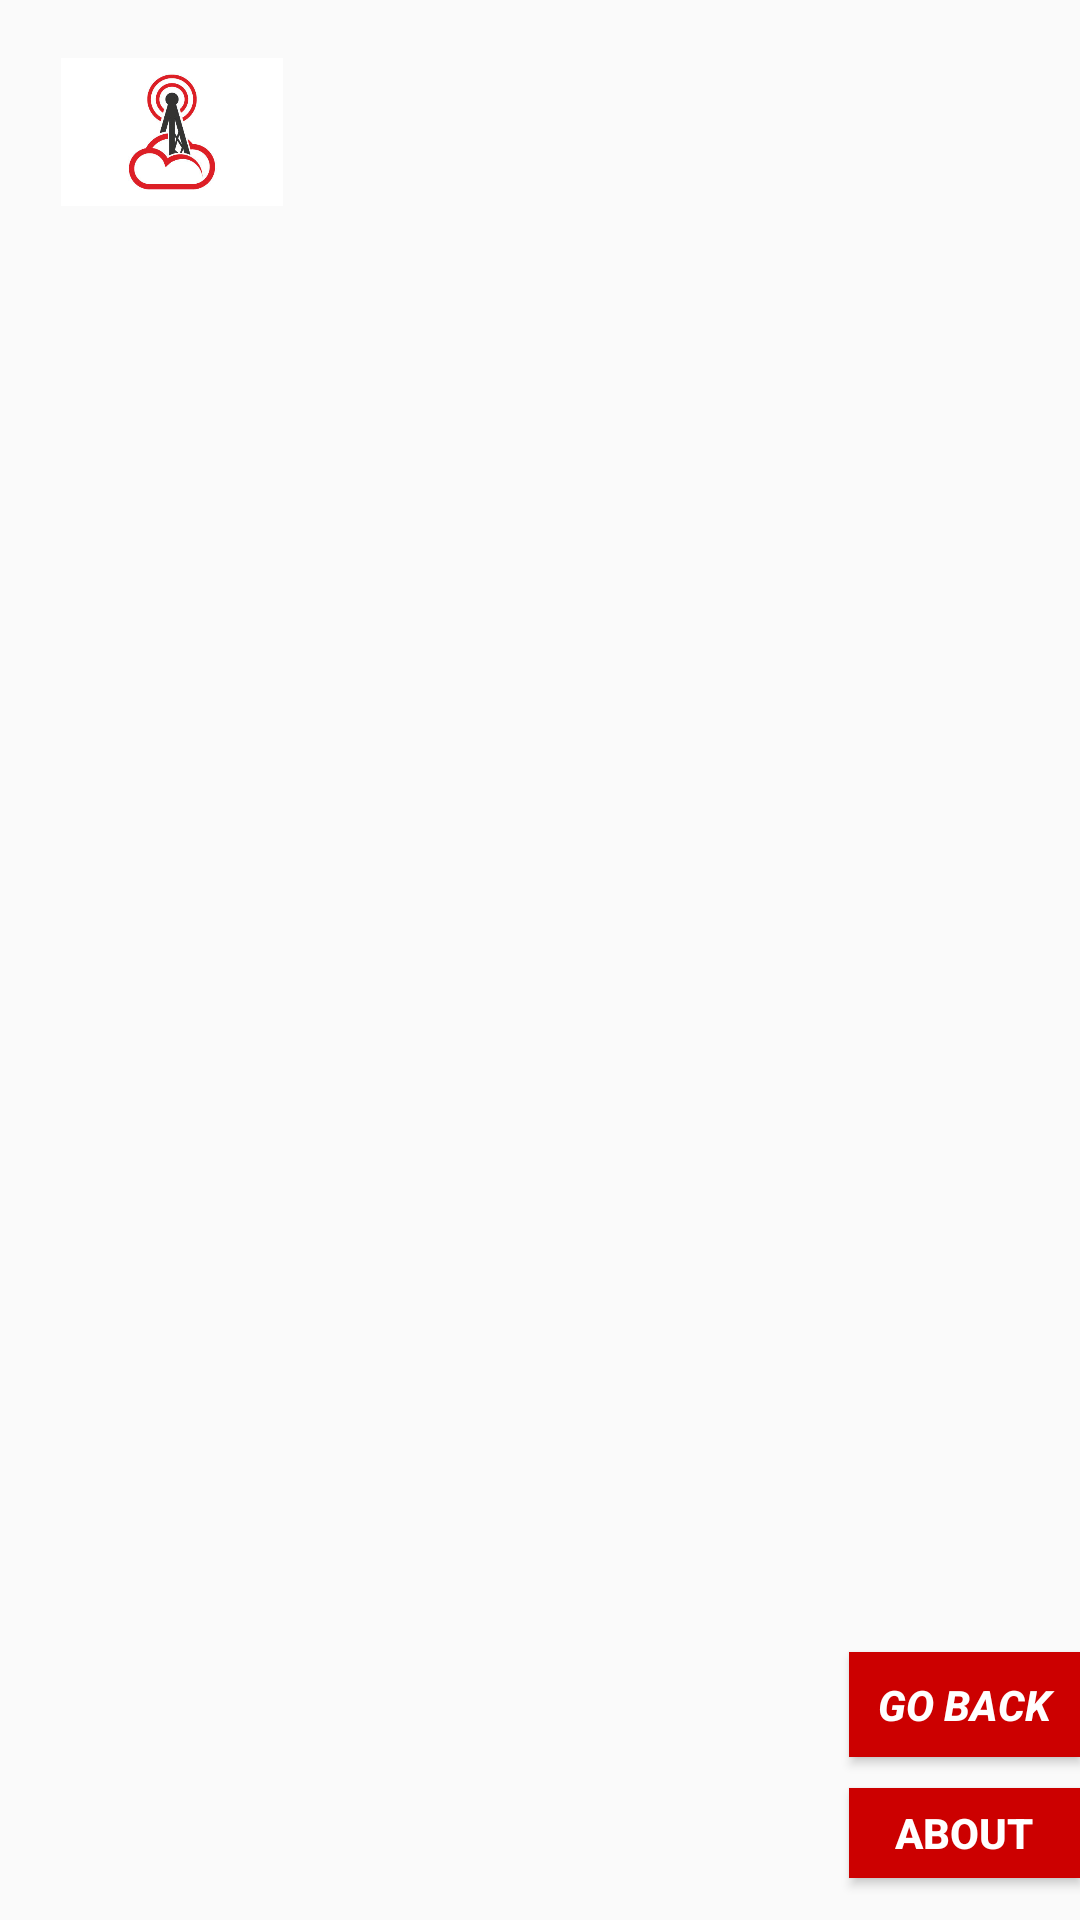

Icons on this 1080 x 1920 Android screen, each with its box as bbox=[x1, y1, x2, y2]:
iot: bbox=[129, 74, 215, 190]
